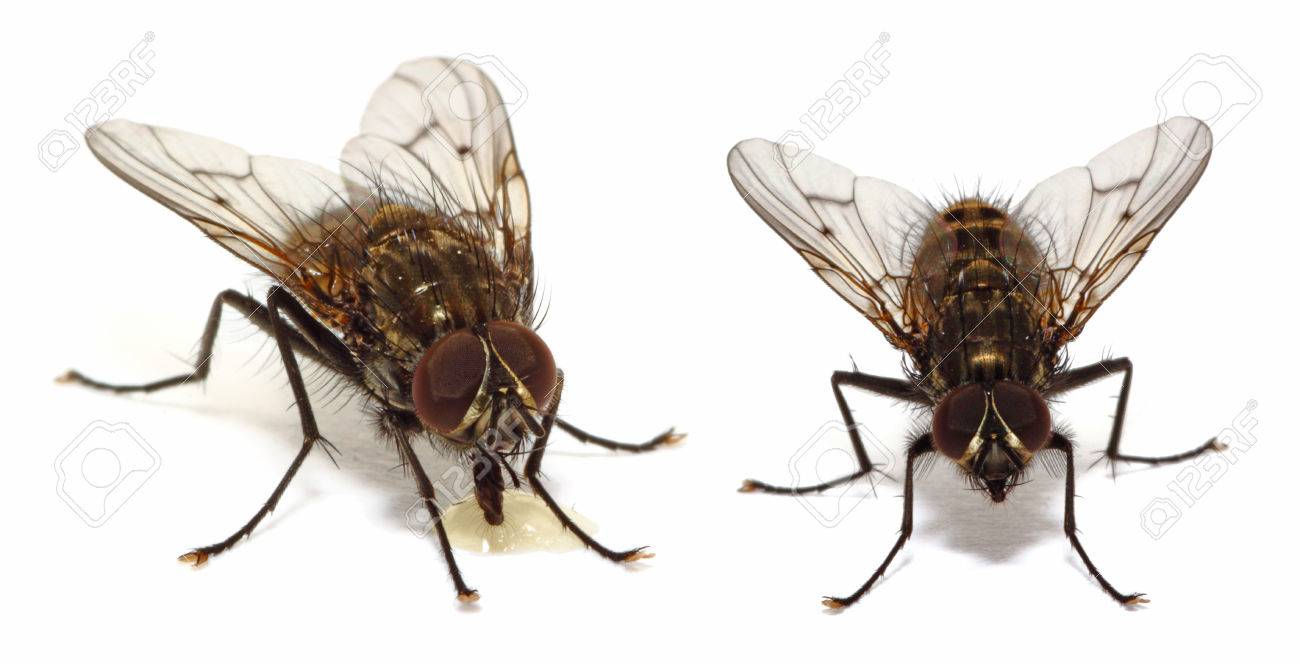fly: (52, 46, 698, 616), (715, 116, 1228, 635)
